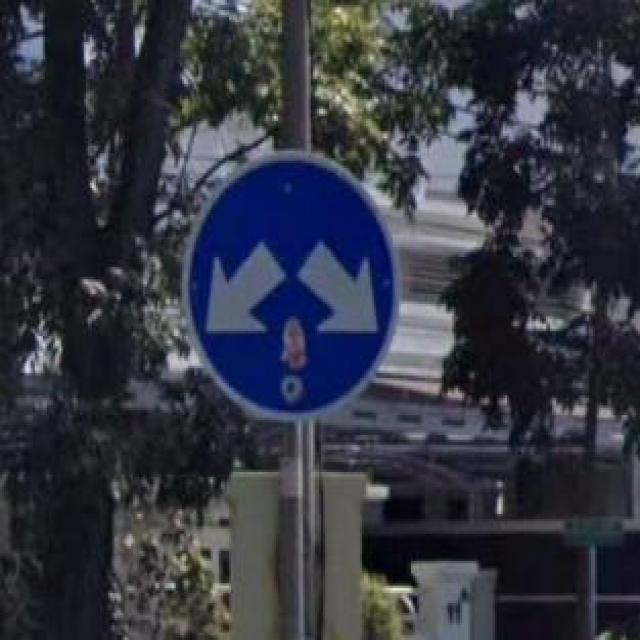traffic sign: (182, 151, 403, 420)
